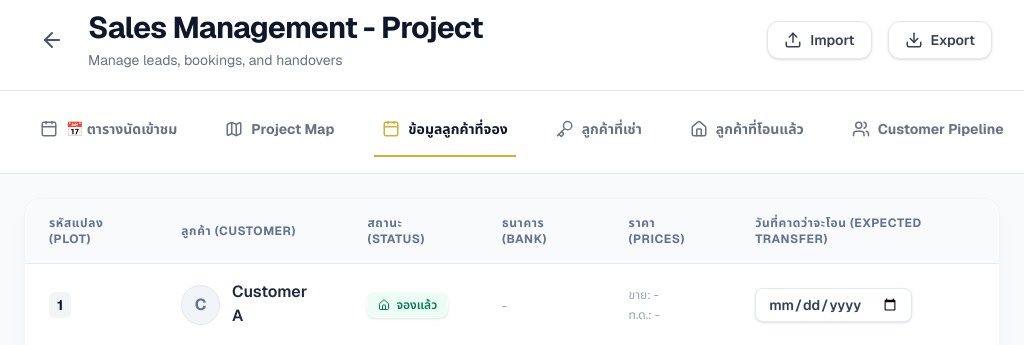
Scenario: per-booking forecast and actual transfer dates › blocks overlapping edits until the first request completes
Expected: the text "Customer A" is shown, [232,280,319,328]
Type "2026-10-30" into the date field at coordinates (834, 305), box [755,288,912,322]
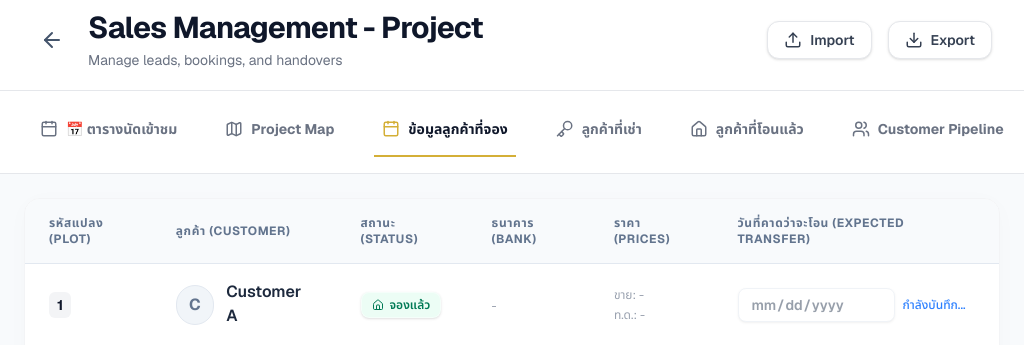
Expected: the date field is disabled
Type "2026-10-29" into the date field at coordinates (816, 305), box [738,288,894,322]
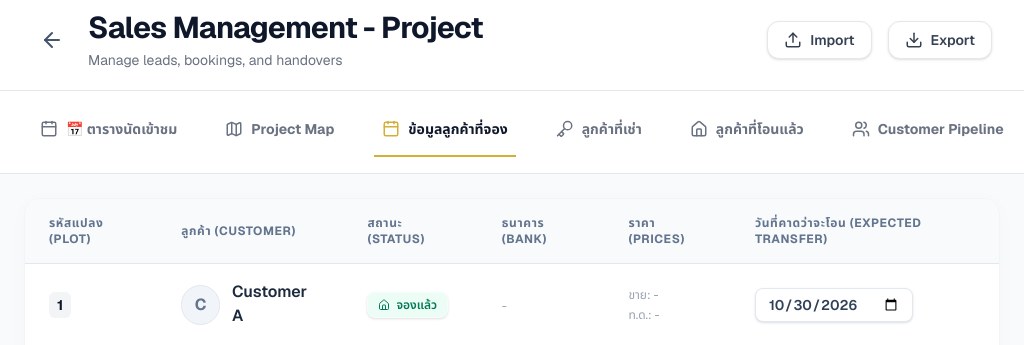
Expected: the date field is enabled, [755,288,913,322]
